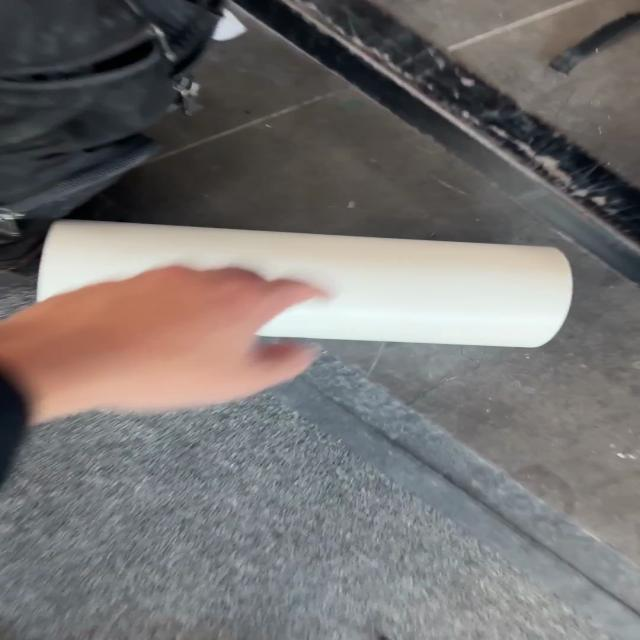Coral: (34, 218, 574, 349)
